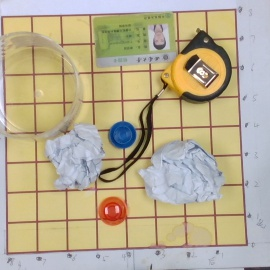card: (93, 10, 178, 66)
